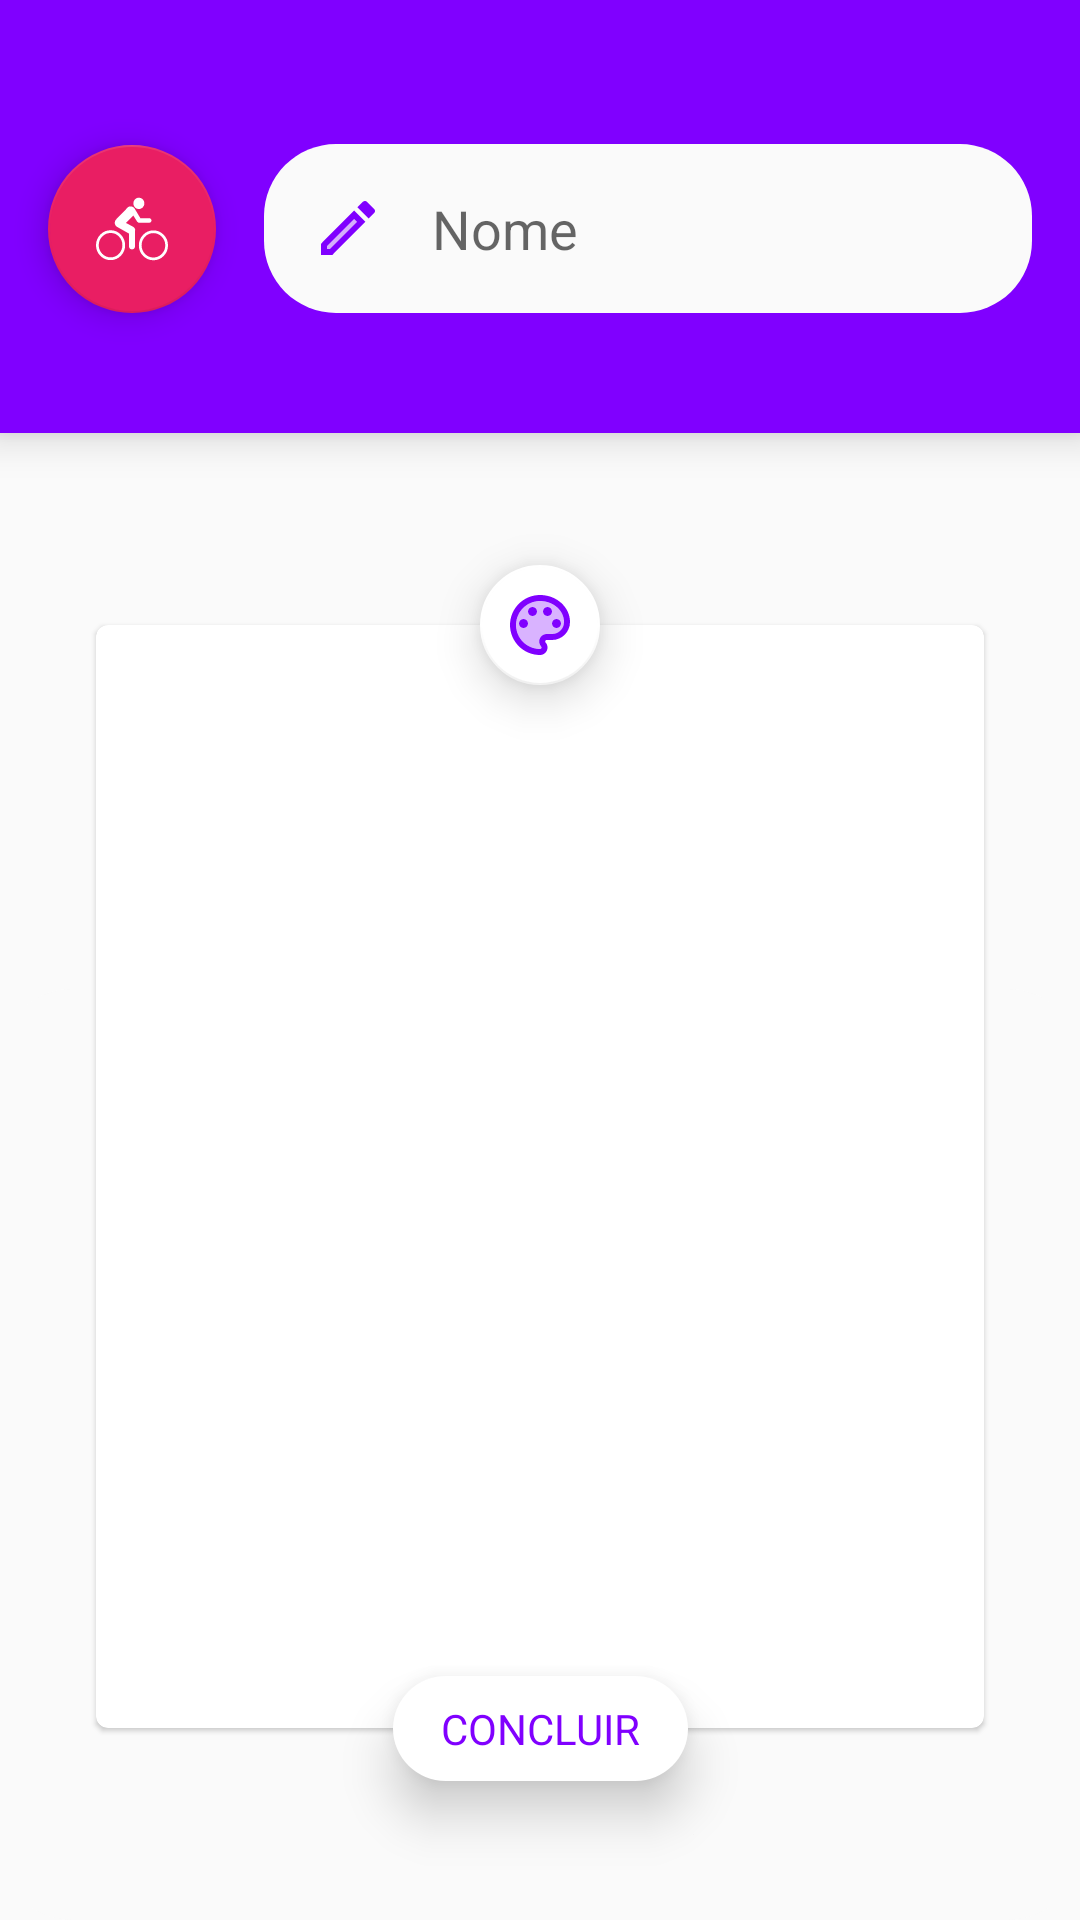

Where to tap for icons on this 1080x1920 app screen, as (x=x, y=y):
paleta: (x=540, y=625)
